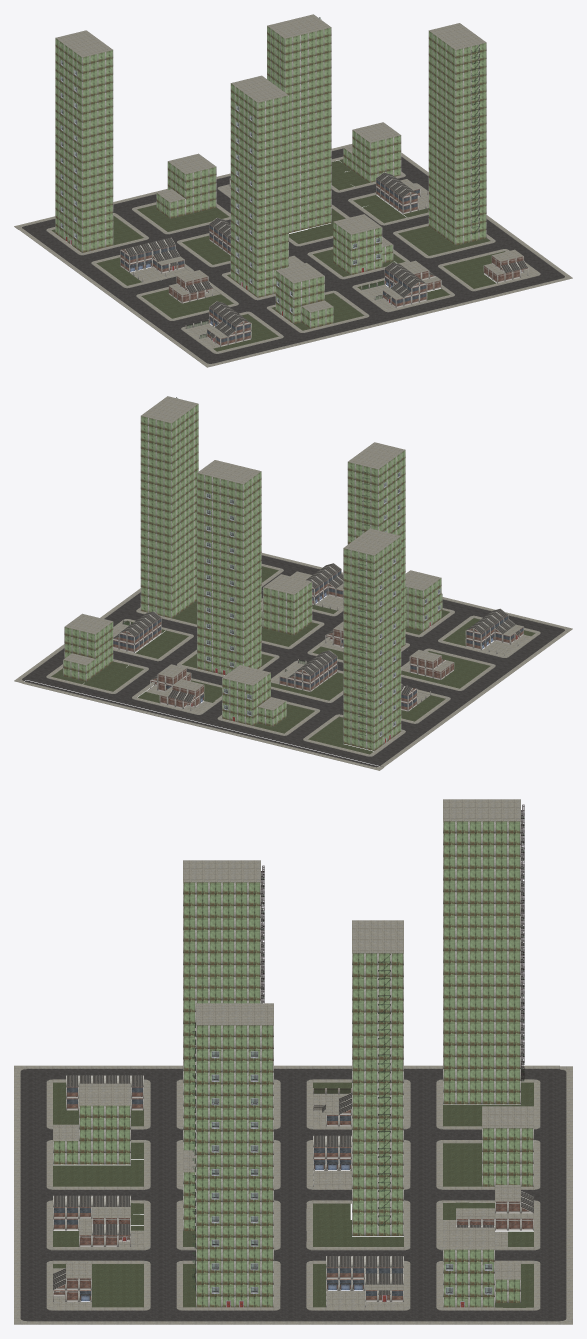
Rendered from map_test.glb.
3 renders of one model, top to bottom at view 1: azimuth 30°, elevation 25°; view 2: azimuth 150°, elevation 25°; view 3: azimuth 270°, elevation 25°, orthographic. The views are drawn at different scales.
Parts seen in each view (by area): view 1: geometry; view 2: geometry; view 3: geometry.
Part boxes in pixels (<box>): geometry: <box>14,14,572,367</box>; geometry: <box>14,396,572,770</box>; geometry: <box>14,799,572,1324</box>.
Size of what is drawn, in the model's own units: 47 by 24.11 by 43.
Materials: 40 (40 with a texture image).
